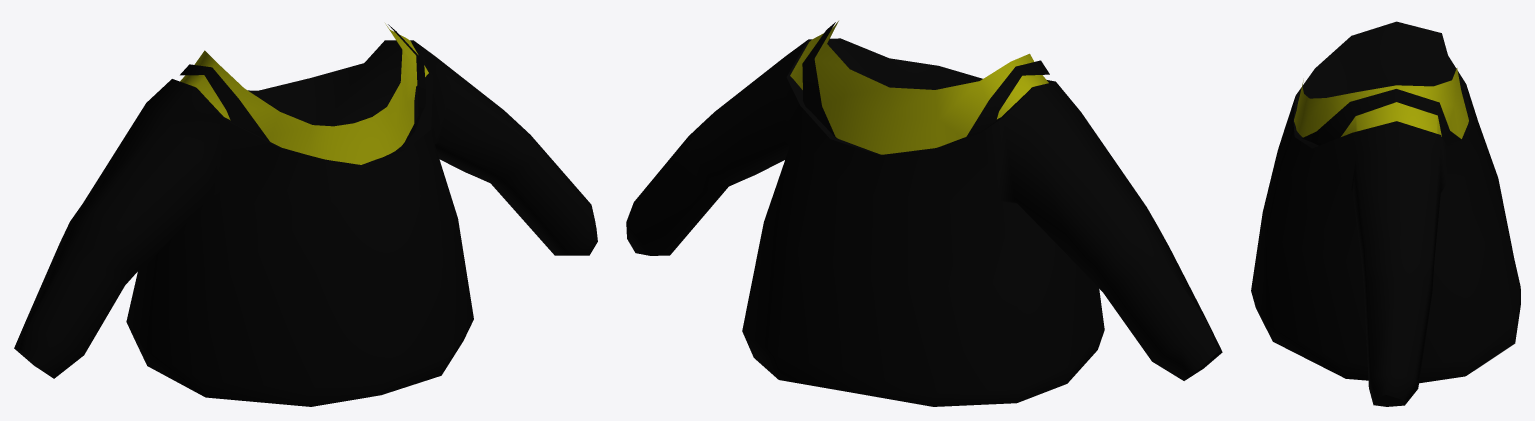
Rendered from torso_187.glb.
3 renders of one model, left to right at view 1: azimuth 30°, elevation 25°; view 2: azimuth 150°, elevation 25°; view 3: azimuth 270°, elevation 25°, orthographic. The views are drawn at different scales.
Visible parts, largest first — view 1: torso; view 2: torso; view 3: torso.
Boxes of the visible parts, x1,y1,x2,y2 form: torso: (14,23,597,406); torso: (626,21,1222,406); torso: (1251,21,1520,406).
Size of the model in its own units: 0.8023 by 0.4199 by 0.3751.
